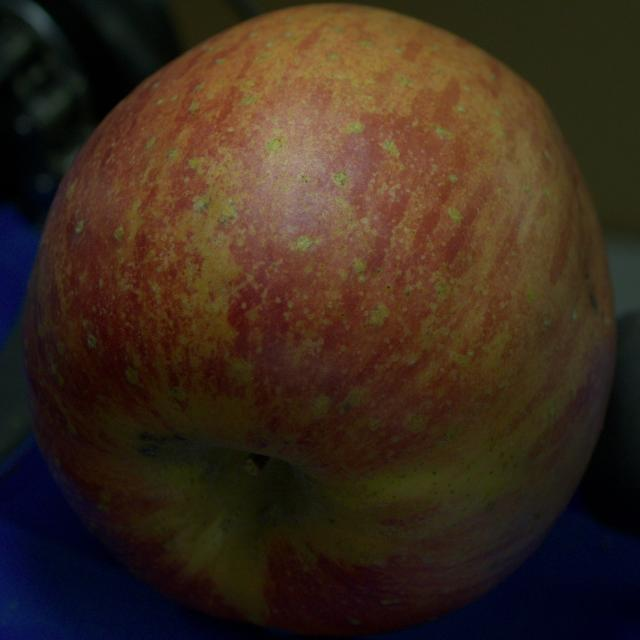apple: (24, 5, 616, 635)
pest: (586, 277, 598, 311)
